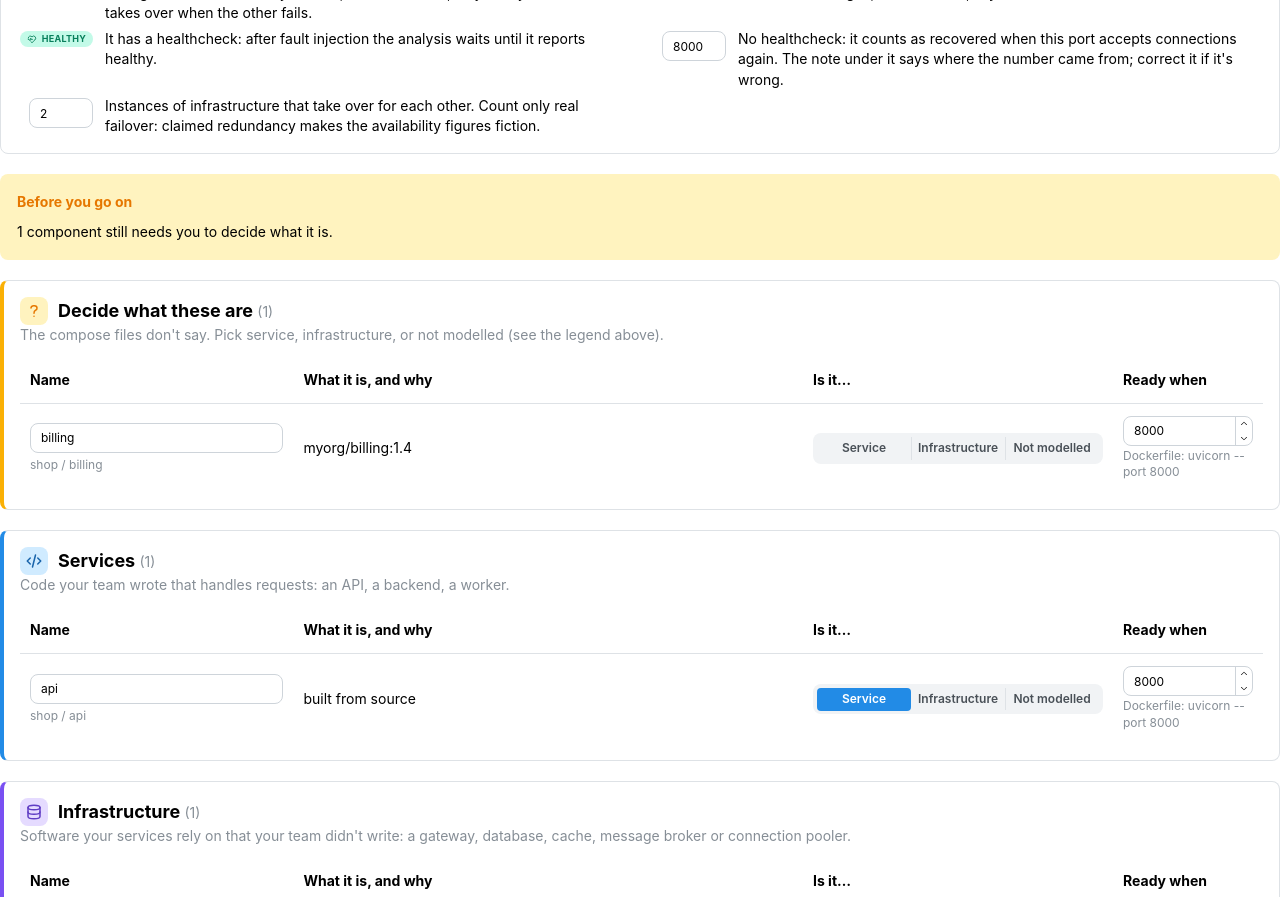
it: ComponentsStep › lets the user settle an unsure component
(page scrolled)
Click the text "Service" in the row of "myorg/billing:1.4": coordinates (864, 448) 842,440 -> 886,455
(page scrolled)
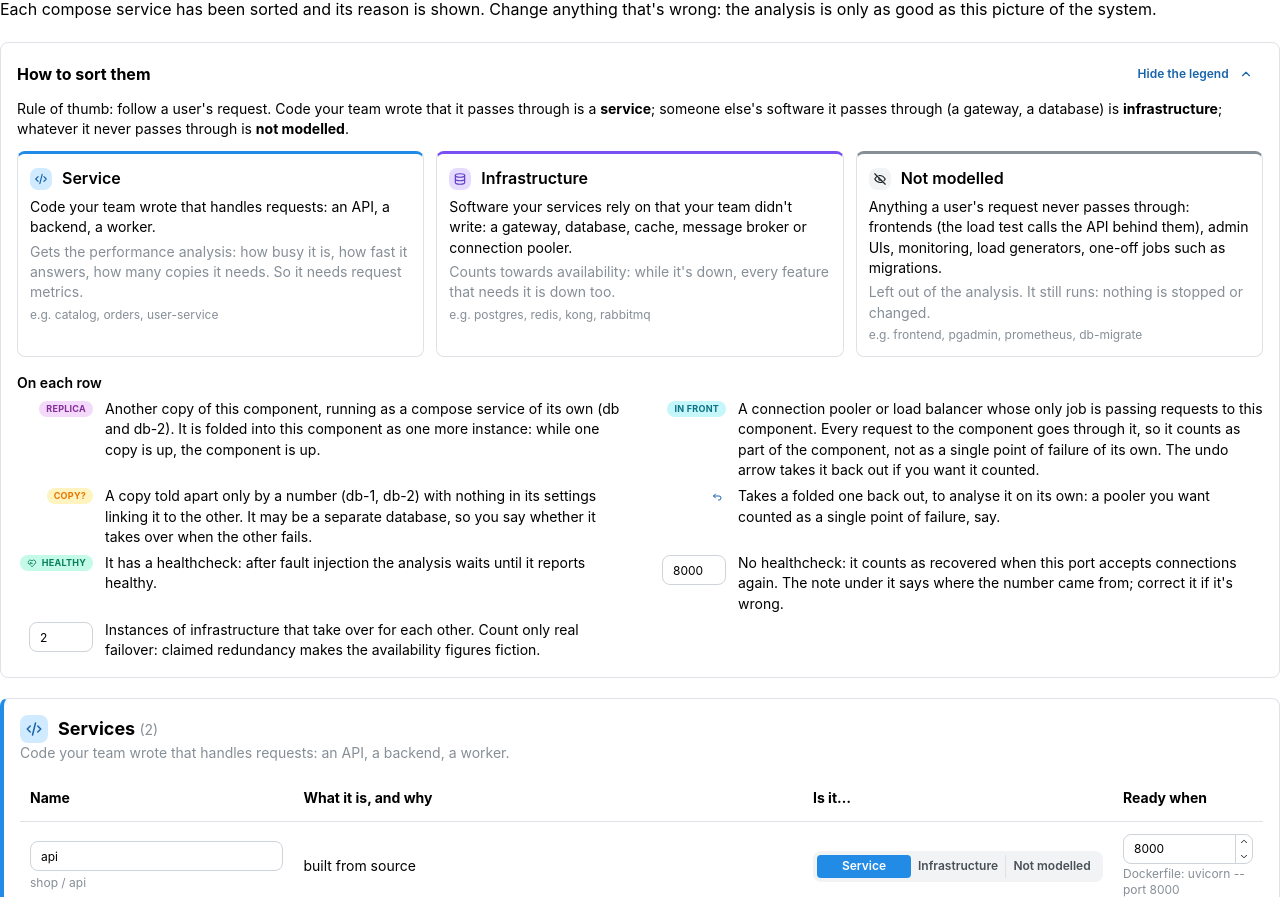
Check: the text "service" is shown, box 600,100 -> 651,117
Check: the heading "Decide what these are" is gone
